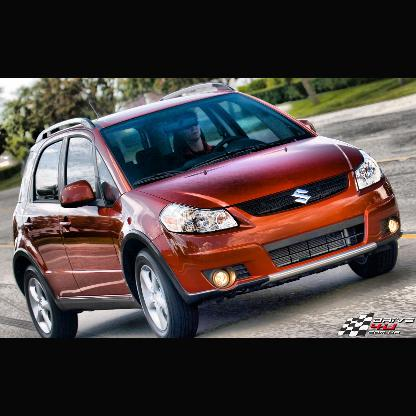Suzuki SX4 Hatchback 2012: (11, 80, 406, 338)
